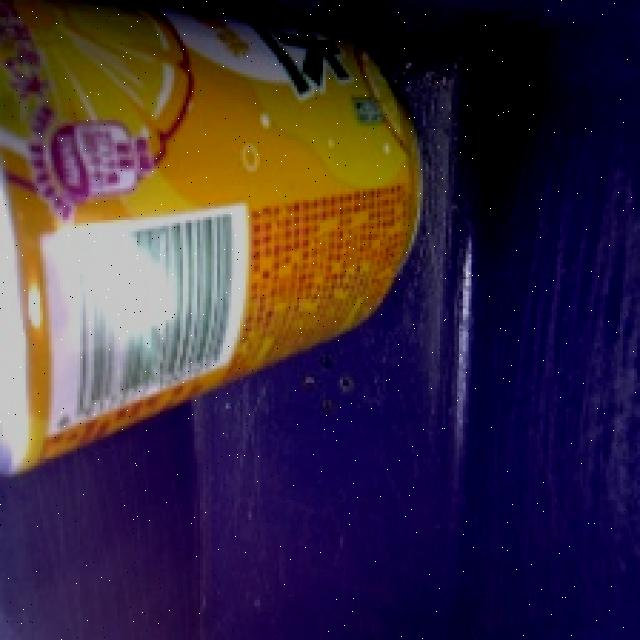metal: (0, 0, 443, 490)
